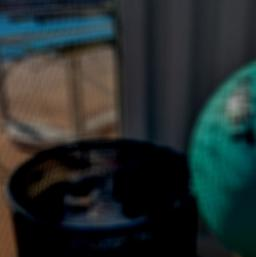algae: (182, 41, 256, 257)
